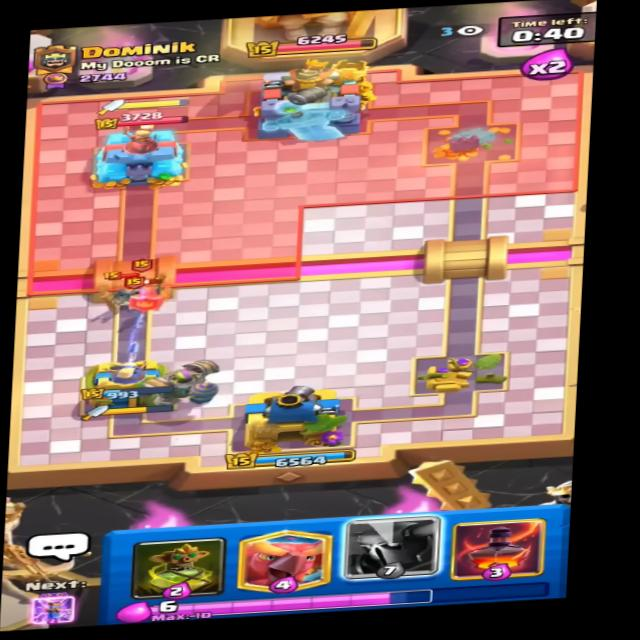guards: (104, 275, 139, 305), (129, 285, 166, 312)
